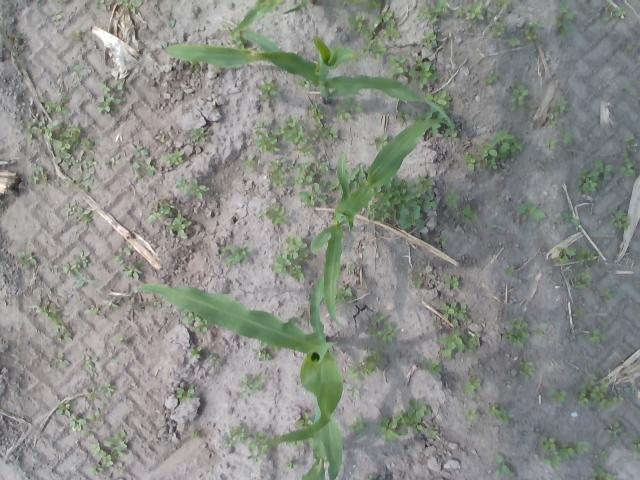Maize: (128, 280, 344, 480), (163, 30, 460, 136), (310, 110, 435, 324), (228, 0, 316, 32)
Weeds: (362, 173, 436, 227), (378, 397, 432, 442), (476, 128, 524, 171), (43, 119, 83, 169), (270, 234, 308, 284), (576, 373, 624, 412), (280, 114, 316, 157), (438, 329, 482, 361), (35, 307, 73, 341), (408, 56, 438, 89), (96, 80, 125, 114), (288, 160, 320, 188), (372, 9, 400, 40), (253, 120, 280, 152), (424, 90, 452, 120), (174, 177, 210, 200), (61, 249, 91, 276), (505, 316, 531, 346), (219, 244, 251, 268), (418, 0, 450, 24), (439, 300, 468, 326), (345, 160, 370, 190), (62, 203, 92, 228), (358, 348, 384, 376), (368, 322, 398, 346), (556, 2, 576, 38), (540, 436, 561, 470), (347, 13, 373, 40), (575, 168, 600, 196), (90, 442, 116, 468), (240, 372, 266, 398), (334, 96, 362, 120), (300, 183, 328, 207), (104, 429, 128, 457), (167, 210, 192, 236), (248, 432, 268, 464), (362, 36, 388, 60), (147, 200, 175, 222), (508, 84, 530, 112), (514, 200, 544, 220), (260, 203, 287, 225), (40, 95, 70, 114), (488, 404, 514, 425), (132, 158, 158, 179), (268, 157, 287, 185), (464, 1, 492, 20), (492, 454, 515, 477), (223, 426, 248, 447), (72, 172, 98, 192), (561, 441, 590, 458), (341, 0, 381, 12), (608, 208, 630, 229), (456, 203, 478, 224), (387, 54, 408, 76), (22, 118, 43, 140), (348, 415, 369, 436), (524, 20, 544, 42), (74, 271, 99, 288), (27, 164, 48, 184), (316, 122, 338, 141), (570, 270, 592, 289), (15, 250, 38, 268), (121, 261, 144, 279), (115, 0, 144, 14), (228, 29, 248, 49), (461, 377, 482, 396), (334, 285, 356, 303), (418, 30, 437, 50), (591, 466, 618, 480), (442, 188, 460, 209), (162, 150, 184, 167), (257, 80, 279, 97), (176, 386, 196, 404), (294, 412, 314, 430), (606, 420, 624, 440), (576, 245, 596, 263), (551, 96, 569, 116), (554, 246, 576, 262), (370, 134, 390, 151), (56, 401, 76, 418), (518, 360, 535, 380), (620, 157, 636, 178), (606, 3, 626, 19), (422, 359, 443, 373), (190, 126, 208, 142), (318, 180, 342, 192), (98, 381, 116, 397), (194, 314, 210, 332), (586, 328, 604, 344), (130, 142, 148, 158), (252, 348, 274, 361), (180, 308, 195, 326), (562, 212, 580, 227), (462, 152, 477, 170), (241, 154, 257, 170), (596, 160, 612, 176), (444, 274, 459, 291), (629, 435, 640, 458), (549, 388, 567, 402), (293, 76, 311, 90), (491, 22, 507, 37), (316, 158, 330, 175), (345, 365, 359, 382), (70, 418, 86, 432), (465, 408, 481, 422), (105, 152, 121, 166), (93, 0, 113, 11), (310, 102, 322, 120), (80, 136, 98, 148), (286, 438, 312, 446), (81, 427, 98, 439), (81, 356, 95, 370), (544, 136, 558, 150), (444, 124, 459, 137), (486, 70, 498, 86), (70, 29, 84, 42), (188, 346, 202, 358), (562, 130, 574, 144), (430, 122, 444, 134), (396, 108, 408, 122), (80, 156, 94, 168), (69, 62, 83, 74), (546, 111, 556, 127), (83, 388, 95, 401), (602, 288, 614, 301), (86, 410, 101, 420), (103, 299, 119, 308), (84, 307, 100, 316), (372, 312, 384, 324), (598, 448, 609, 461), (118, 246, 132, 256), (111, 254, 125, 264), (427, 427, 438, 439), (282, 462, 298, 470), (495, 0, 511, 8), (188, 59, 199, 70), (156, 133, 168, 143), (414, 278, 424, 290), (624, 133, 634, 145), (112, 335, 125, 344), (190, 429, 201, 439), (59, 358, 70, 368), (51, 12, 62, 22), (508, 38, 520, 47), (412, 113, 424, 122), (148, 301, 161, 309), (350, 388, 360, 398), (439, 236, 449, 246), (454, 8, 464, 18), (574, 309, 585, 318), (535, 327, 546, 336), (90, 467, 104, 474), (8, 34, 20, 42), (287, 317, 298, 325), (506, 265, 514, 276), (270, 344, 279, 352), (621, 149, 629, 158), (258, 340, 268, 347), (626, 44, 634, 52), (362, 474, 372, 480), (348, 264, 356, 270), (56, 0, 68, 4)
